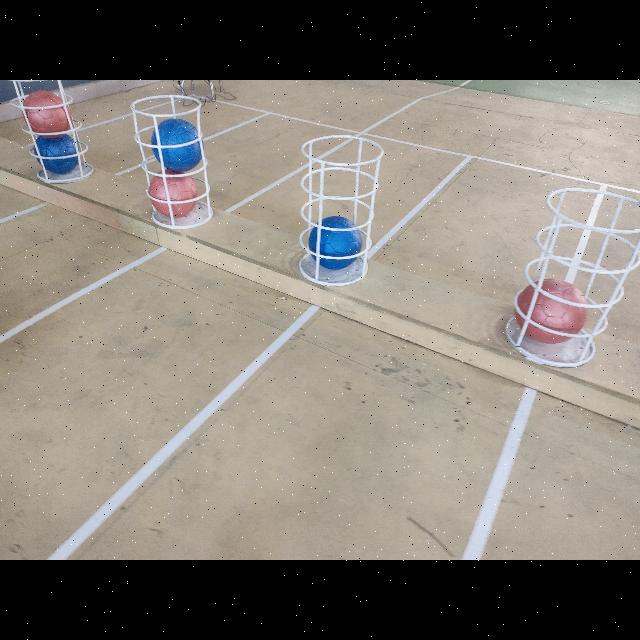B: (308, 216, 364, 270), (152, 118, 202, 170), (34, 132, 80, 176)
R: (515, 278, 587, 344), (23, 90, 73, 138), (150, 169, 198, 217)
